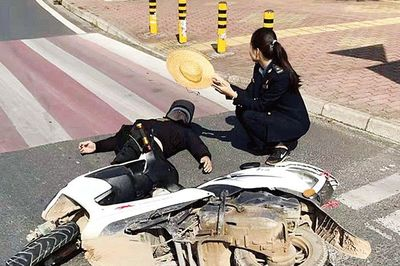fall: (62, 86, 222, 210)
